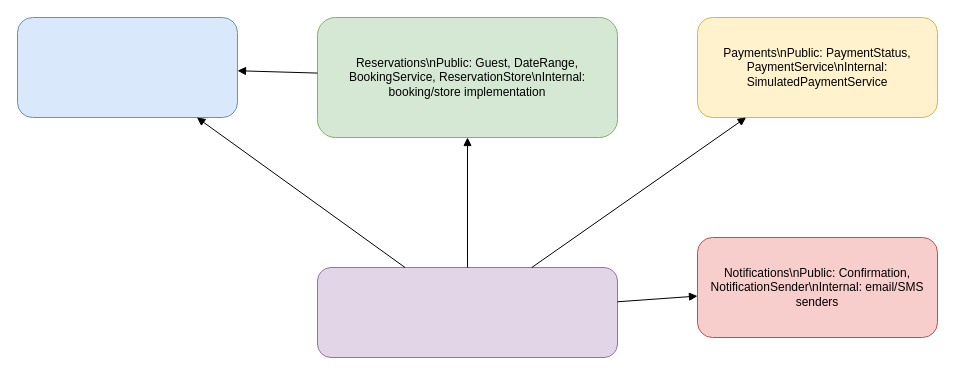
Some shapes in this 955 by 375 pixel diagram are drawn without their labels. The shapes that lost their labels are listed below. From the top down, each one's centre as x and y in pixels, then its label:
the point at 127,67: Rooms\nPublic: Room, RoomCatalog\nInternal: InMemoryRoomCatalog
the point at 467,312: main.py — composition root\nOnly file wiring internal implementations
